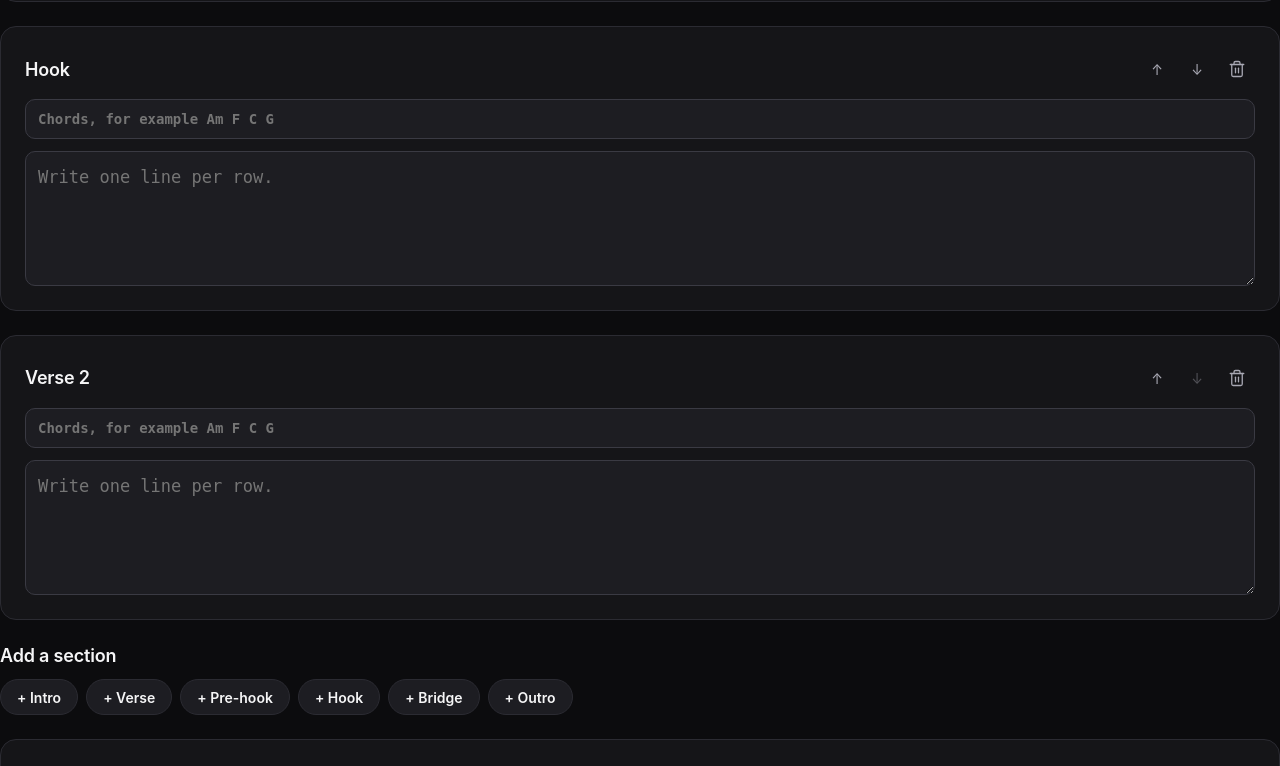
Test: Lyrics panel › the first section cannot move up and the last one standing cannot be removed
(page scrolled)
Click the button named "Remove Verse 2": (1237, 378) left=1219, top=360, right=1255, bottom=396
(page scrolled)
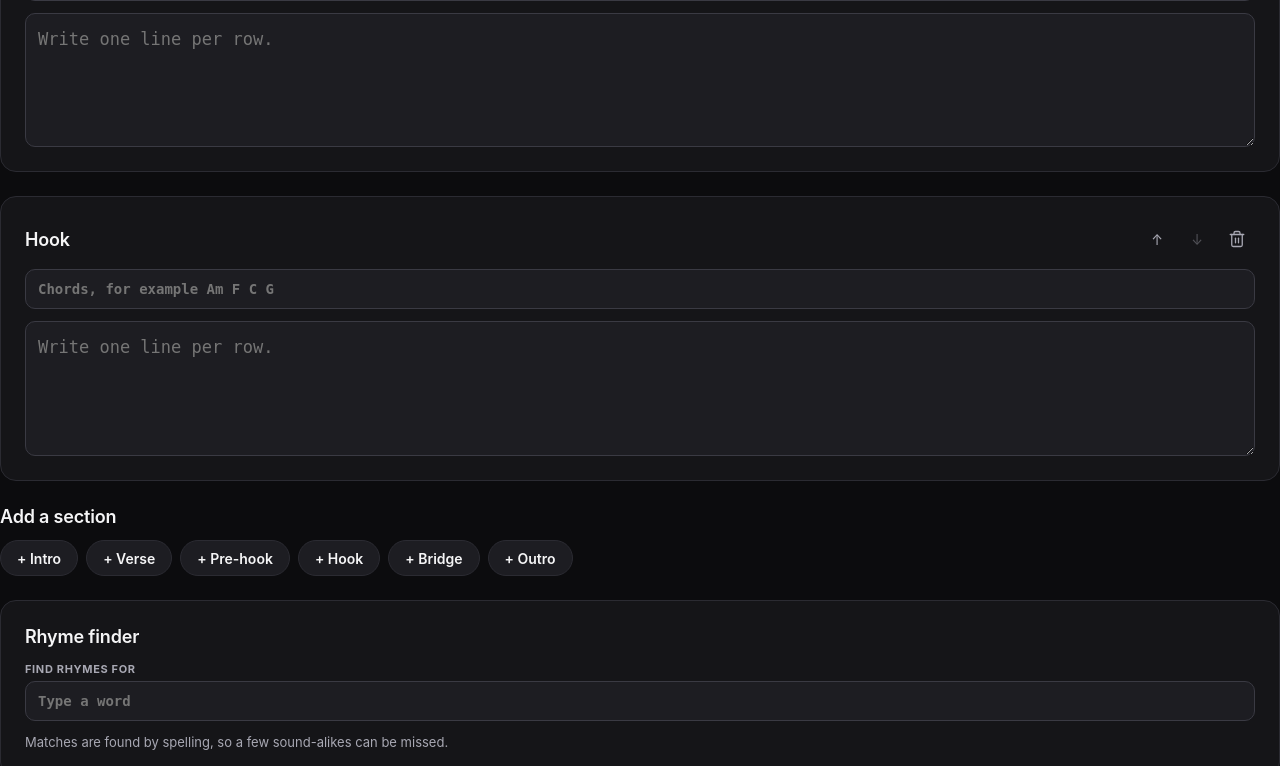
Click the button named "Remove Hook": (1237, 239) left=1219, top=221, right=1255, bottom=257
(page scrolled)
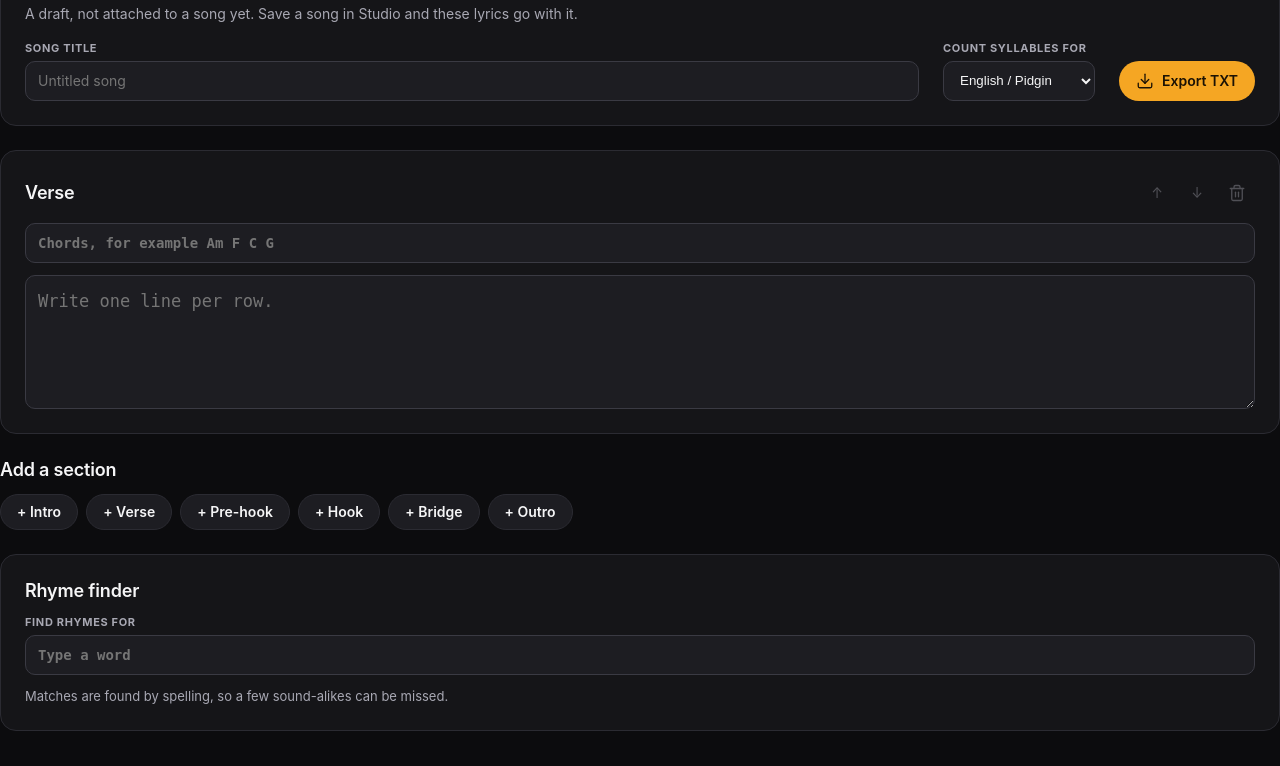
Now the button named "Remove Verse" is disabled, box left=1219, top=174, right=1255, bottom=210
